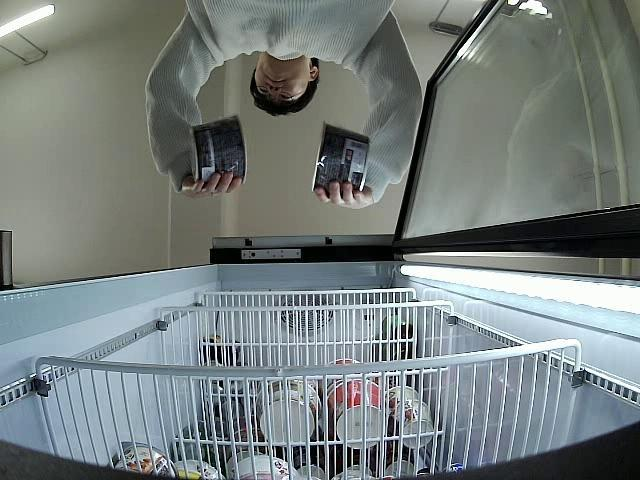07_buldak_L: (190, 110, 247, 188), (313, 123, 372, 198)
